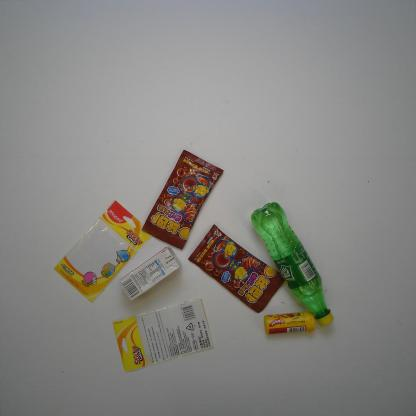Candy: (188, 224, 288, 316), (140, 147, 224, 251), (263, 311, 317, 336)
Drink: (250, 199, 334, 328)
Milk: (118, 245, 182, 304)
Stationery: (52, 199, 153, 302), (111, 297, 215, 374)
